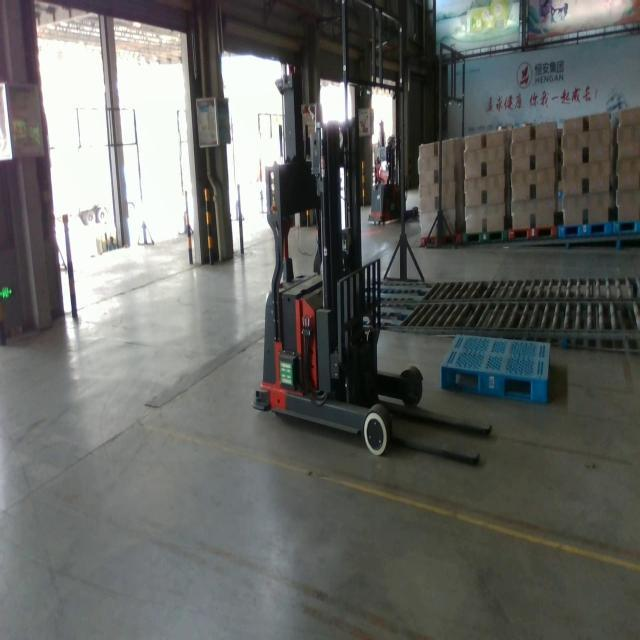forklift: (251, 66, 495, 471), (366, 118, 419, 230)
